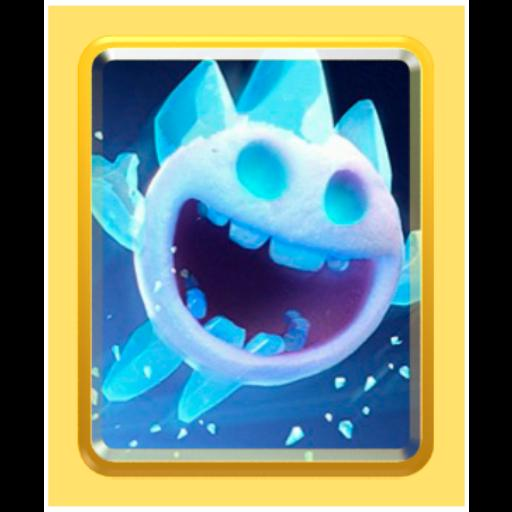ice-spirit: (89, 60, 415, 460)
